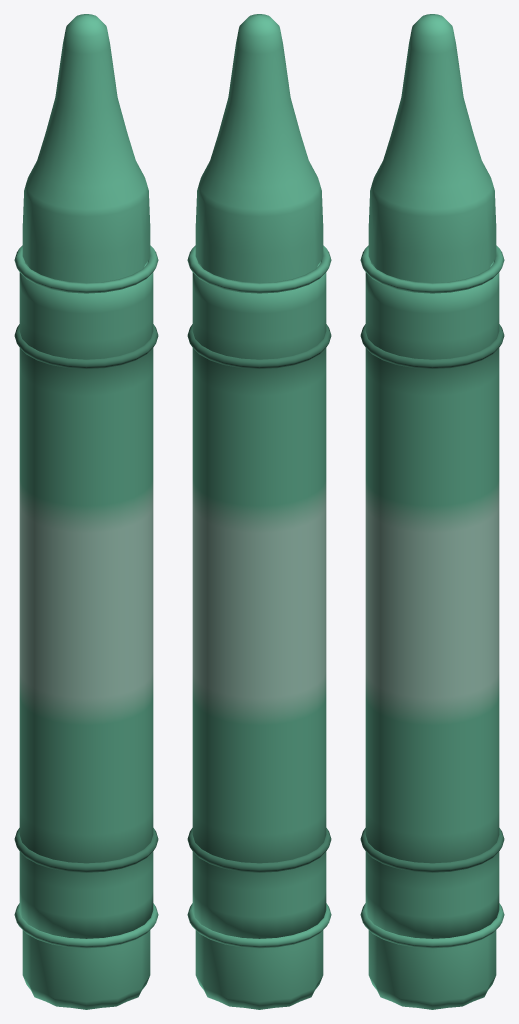
File: W6_Crayon_Mint.fbx
3 views of the same model, side by side, from view 1: azimuth 30°, elevation 25°; view 2: azimuth 150°, elevation 25°; view 3: azimuth 270°, elevation 25° (orthographic).
Parts seen in each view (by area): view 1: W6_Crayon_Mint; view 2: W6_Crayon_Mint; view 3: W6_Crayon_Mint.
Part boxes in pixels (x1,y1,x2,y2): W6_Crayon_Mint: (14, 14, 158, 1009); W6_Crayon_Mint: (187, 14, 331, 1009); W6_Crayon_Mint: (360, 14, 504, 1009).
Bounding box in the file's own units: 0.1618 × 1.2 × 0.1618.
